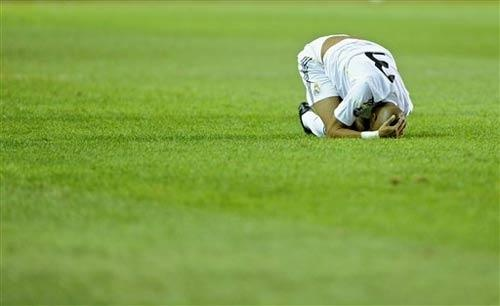falling: (289, 28, 421, 144)
